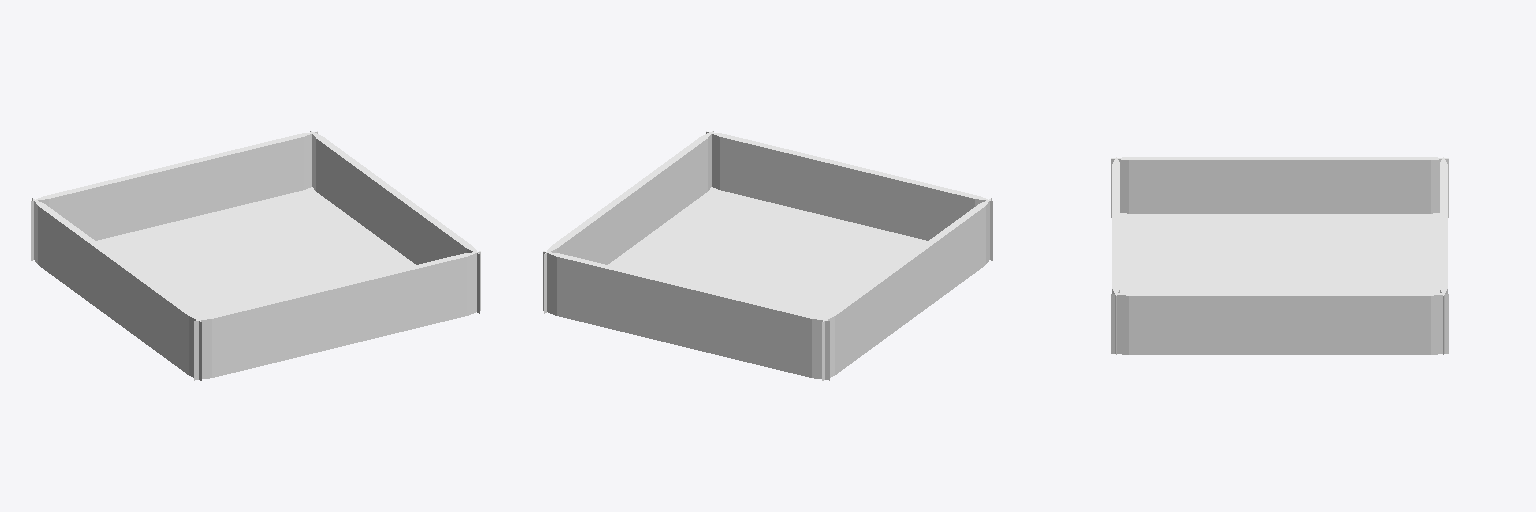
Rendered from nacelle.obj.
3 renders of one model, left to right at view 1: azimuth 30°, elevation 25°; view 2: azimuth 150°, elevation 25°; view 3: azimuth 270°, elevation 25°, orthographic.
Bounding box in the file's own units: 5.06 × 1 × 5.17.